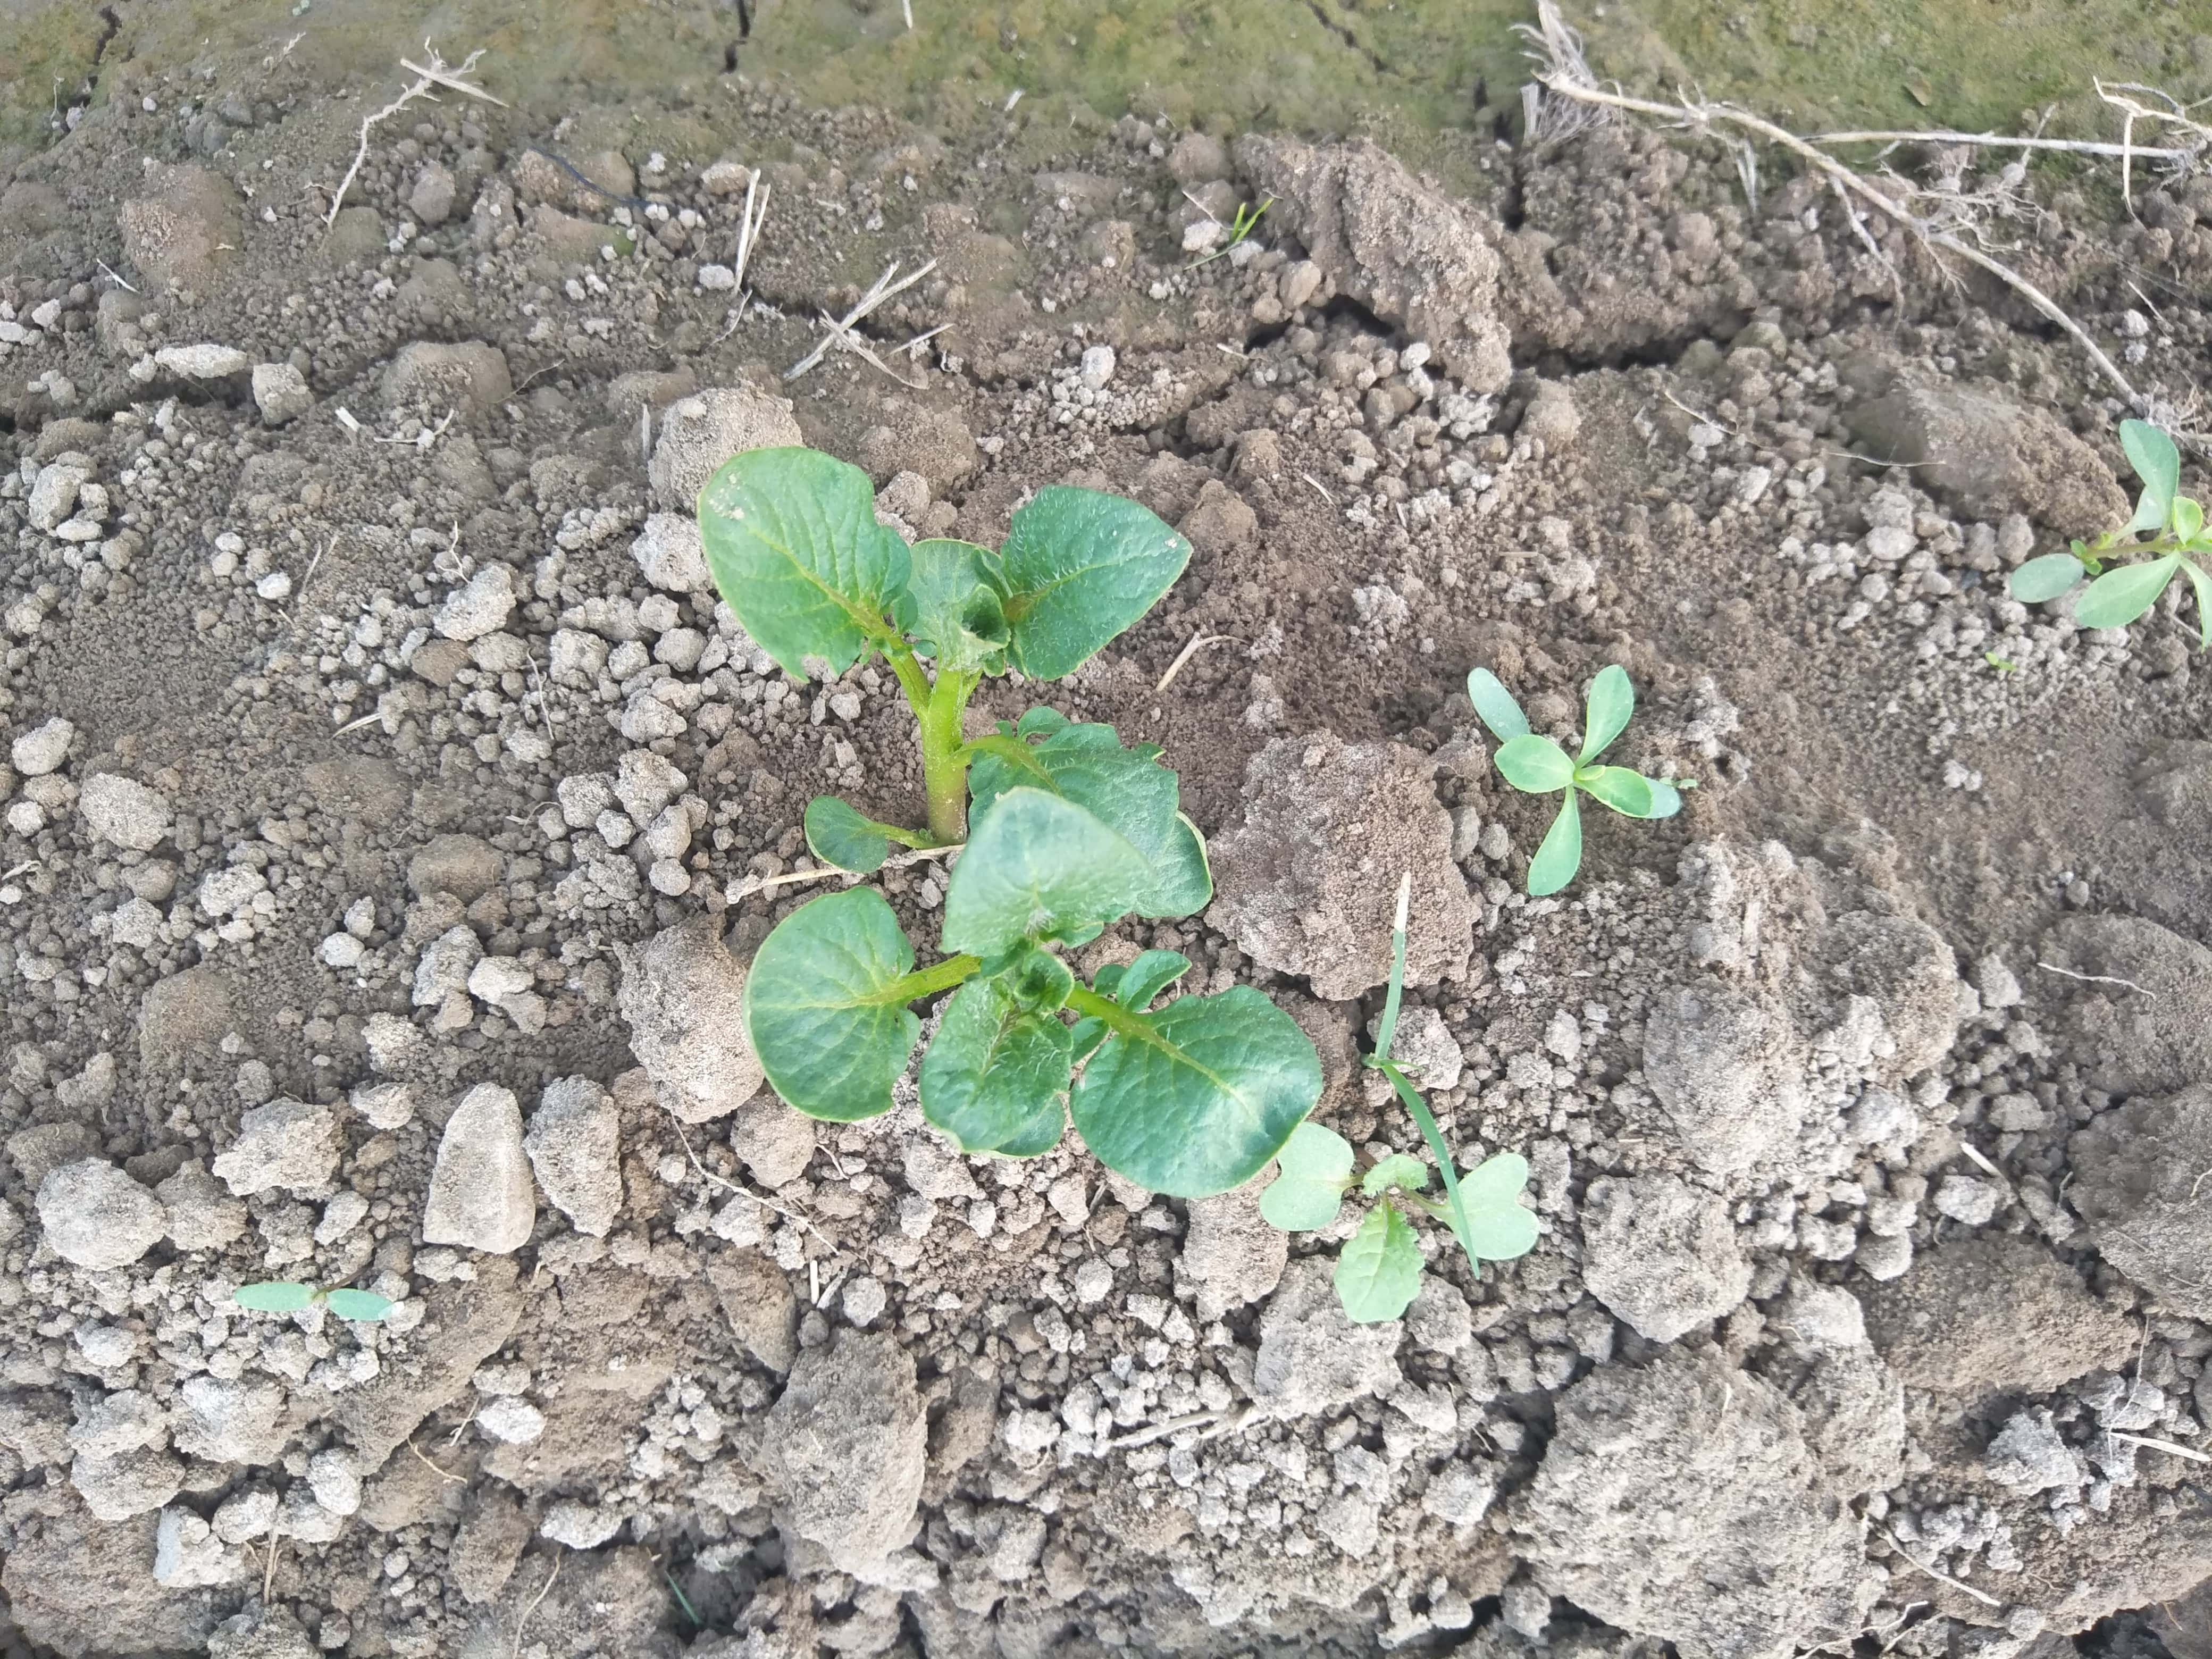daun: (1087, 999, 1324, 1190), (700, 472, 900, 657), (749, 903, 907, 1117), (941, 807, 1129, 941), (970, 730, 1169, 856), (1010, 502, 1169, 650), (937, 971, 1062, 1147), (904, 532, 1003, 674), (1109, 814, 1216, 915), (801, 789, 911, 870), (1120, 951, 1188, 1011)
